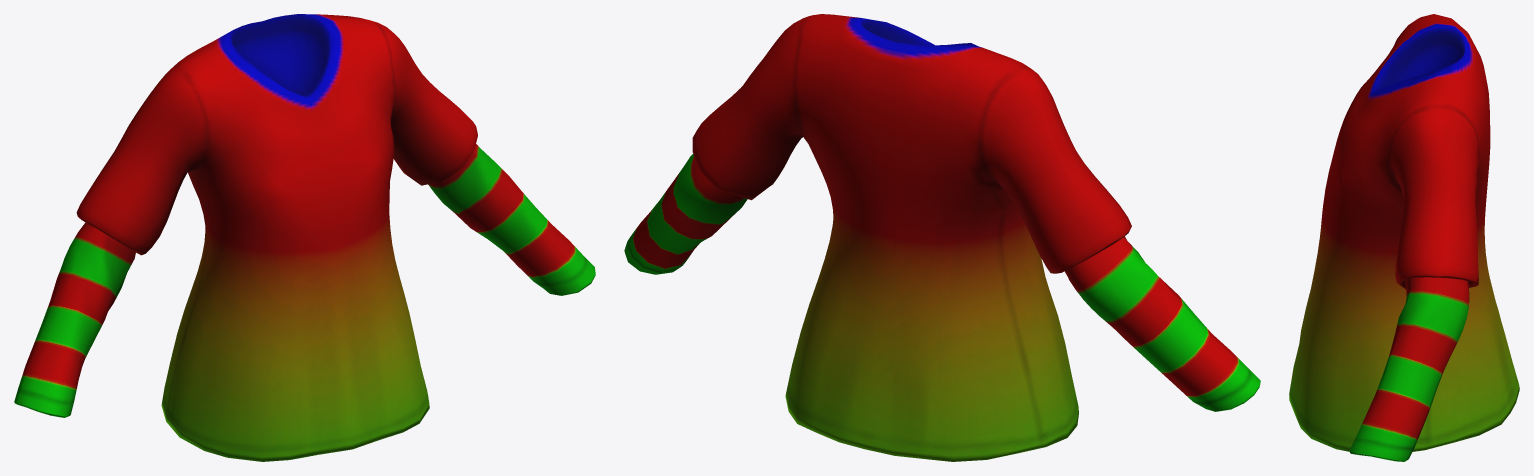
The model's file is Top_HealthCareSleeves.obj.
The picture shows the model from 3 angles, left to right: view 1: azimuth 30°, elevation 25°; view 2: azimuth 150°, elevation 25°; view 3: azimuth 270°, elevation 25°; orthographic projection. The views are drawn at different scales.
Visible parts, largest first — view 1: Top_HealthCareSleeves_0; view 2: Top_HealthCareSleeves_0; view 3: Top_HealthCareSleeves_0.
Boxes of the visible parts, bbox=[...] form: Top_HealthCareSleeves_0: bbox=[14, 14, 595, 461]; Top_HealthCareSleeves_0: bbox=[624, 14, 1260, 461]; Top_HealthCareSleeves_0: bbox=[1289, 14, 1519, 461].
Bounding box in the file's own units: 0.9469 × 0.5783 × 0.34.
1 material, 1 textured.
